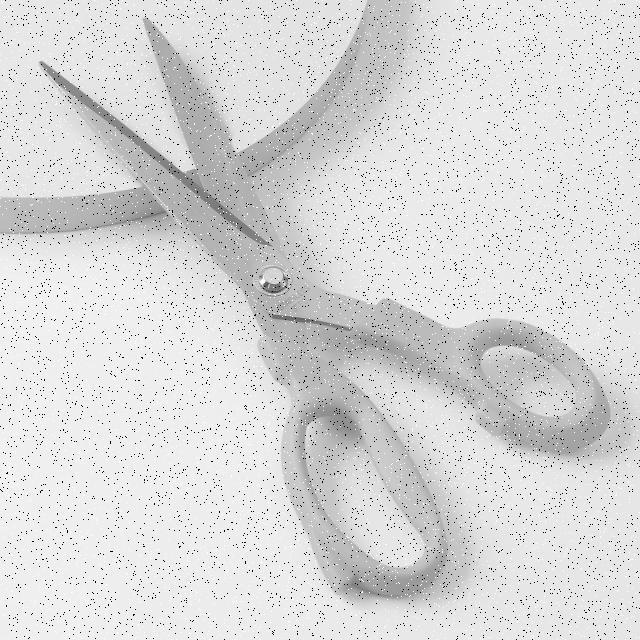scissors: (35, 14, 614, 604)
